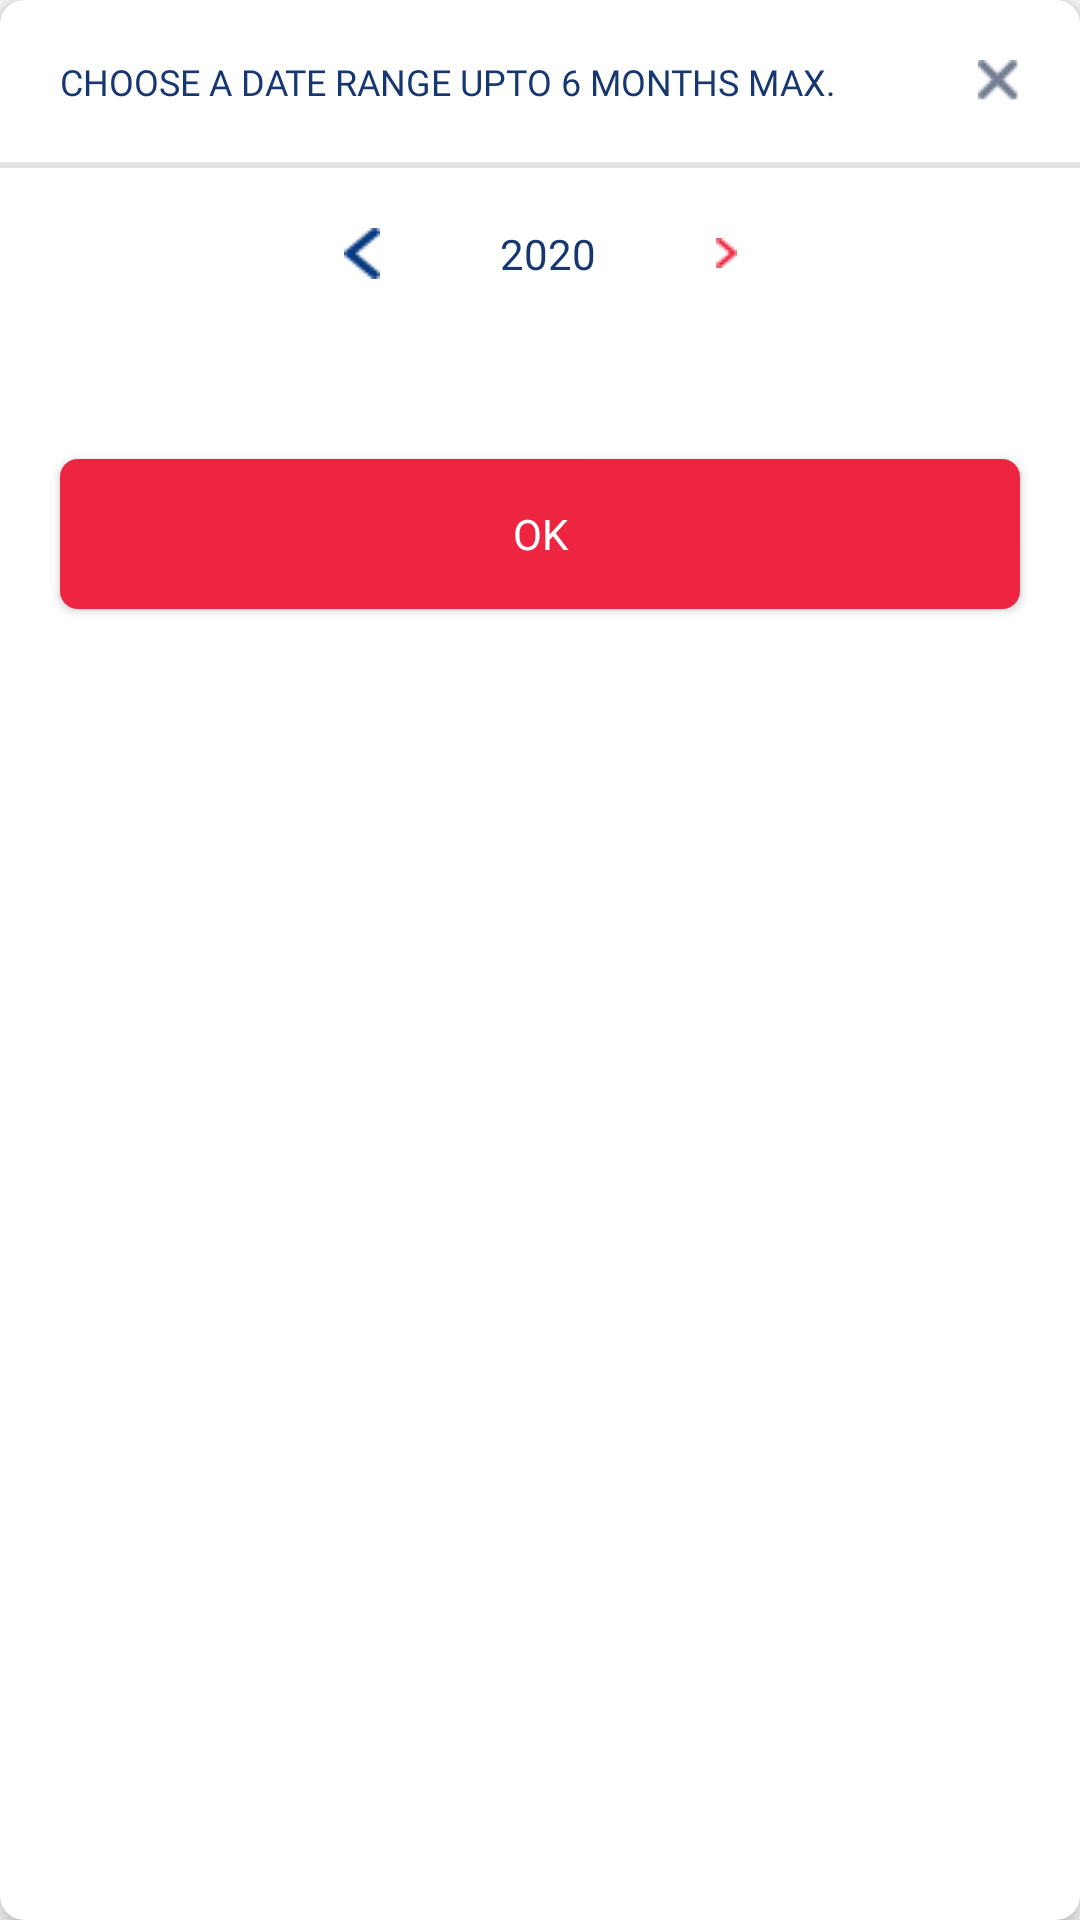

Icons on this 1080px x 1920px Android screen, each with the point to tap as [x,y]:
next: [726,253]
previous: [362,253]
